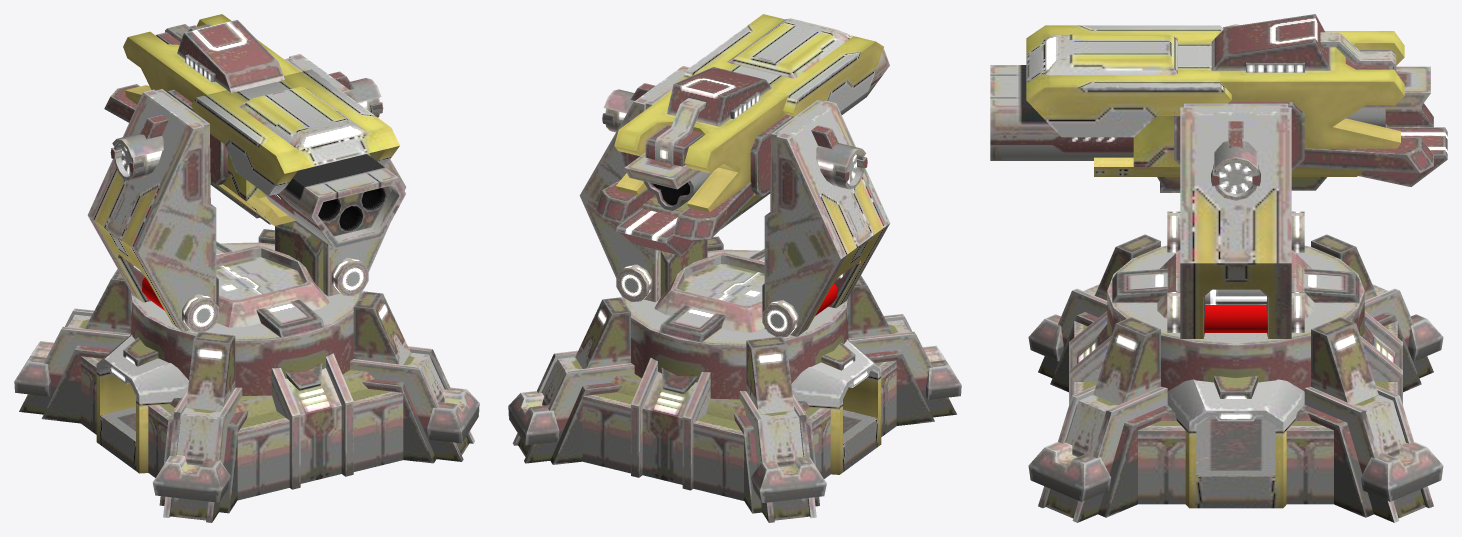
The picture shows the model from 3 angles, left to right: view 1: azimuth 30°, elevation 25°; view 2: azimuth 150°, elevation 25°; view 3: azimuth 270°, elevation 25°; orthographic projection. The views are drawn at different scales.
Visible parts, largest first — view 1: turret-missile; view 2: turret-missile; view 3: turret-missile.
Boxes of the visible parts, bbox=[...] form: turret-missile: bbox=[14, 14, 479, 522]; turret-missile: bbox=[508, 14, 961, 522]; turret-missile: bbox=[990, 14, 1447, 522].
Size of the model in its own units: 6.6 by 7.21 by 7.27.
2 materials, 1 textured.
